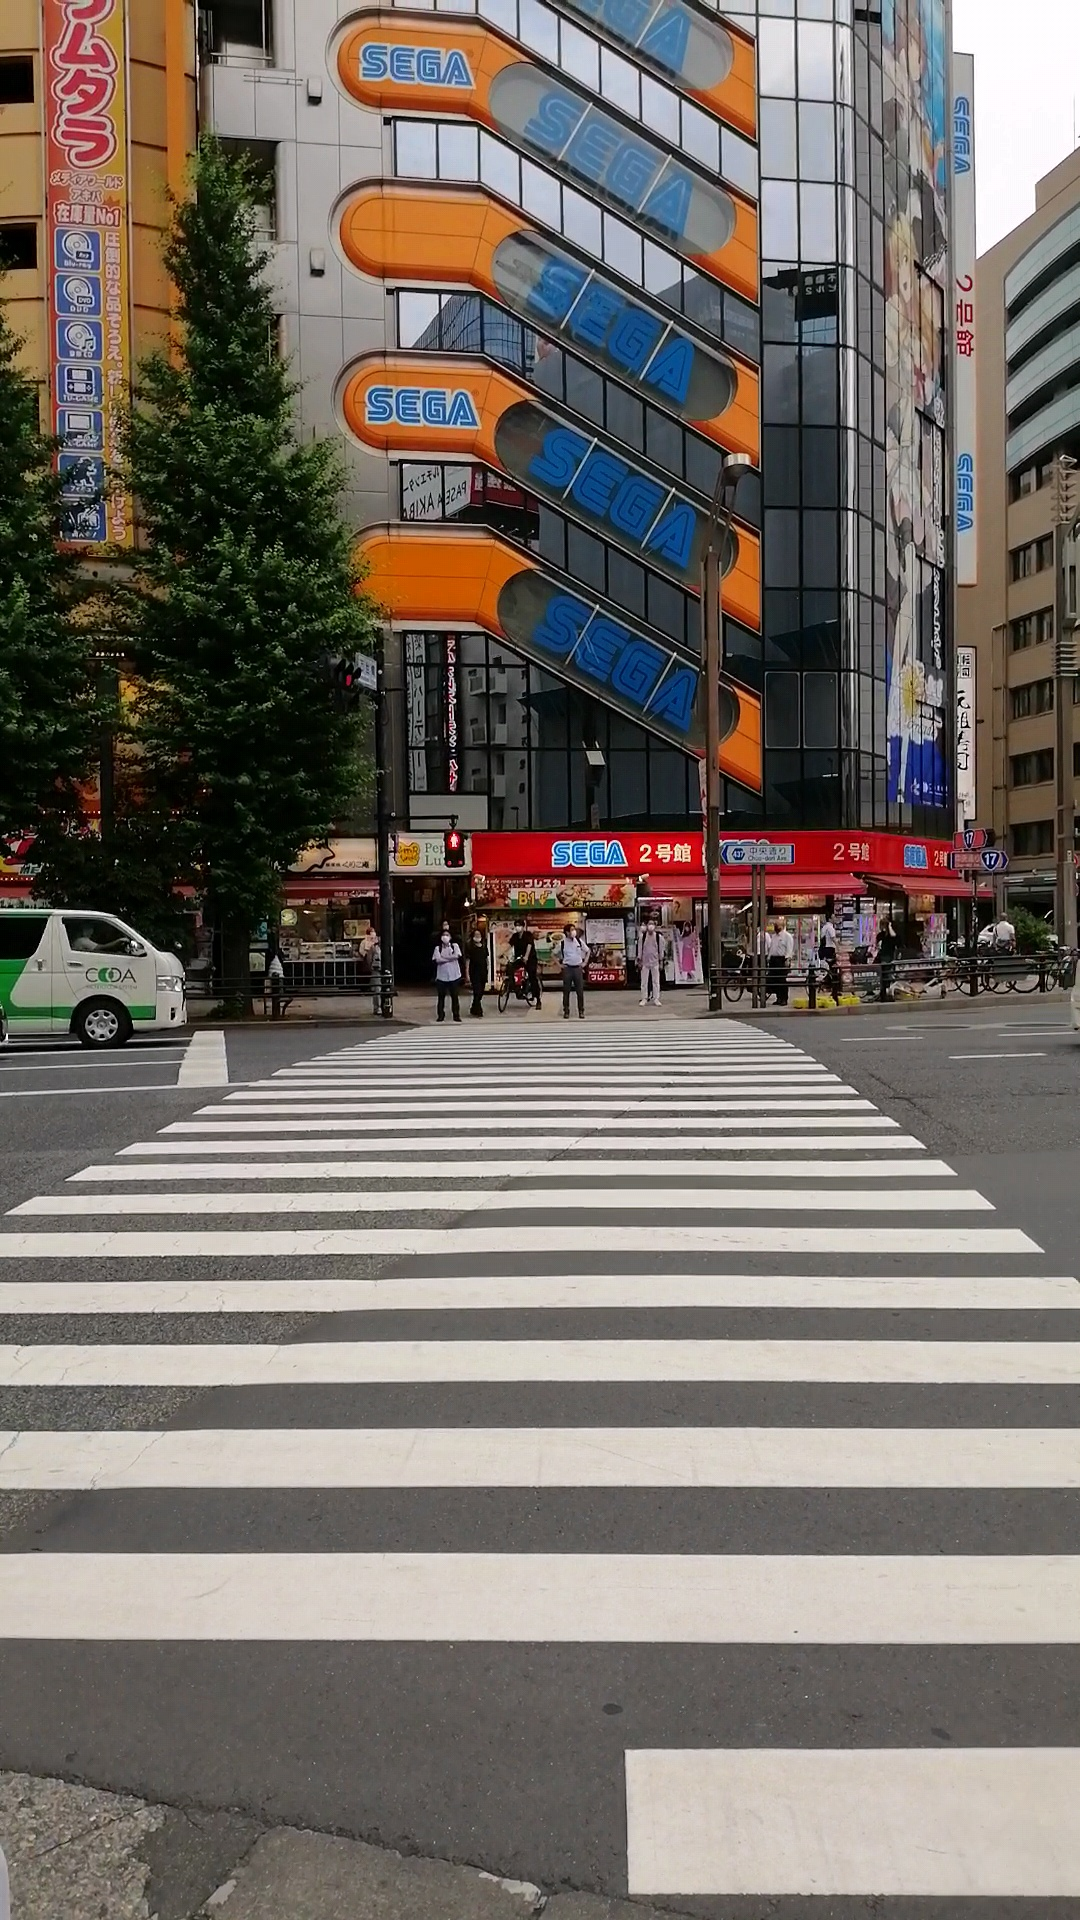red: (443, 831, 464, 868)
